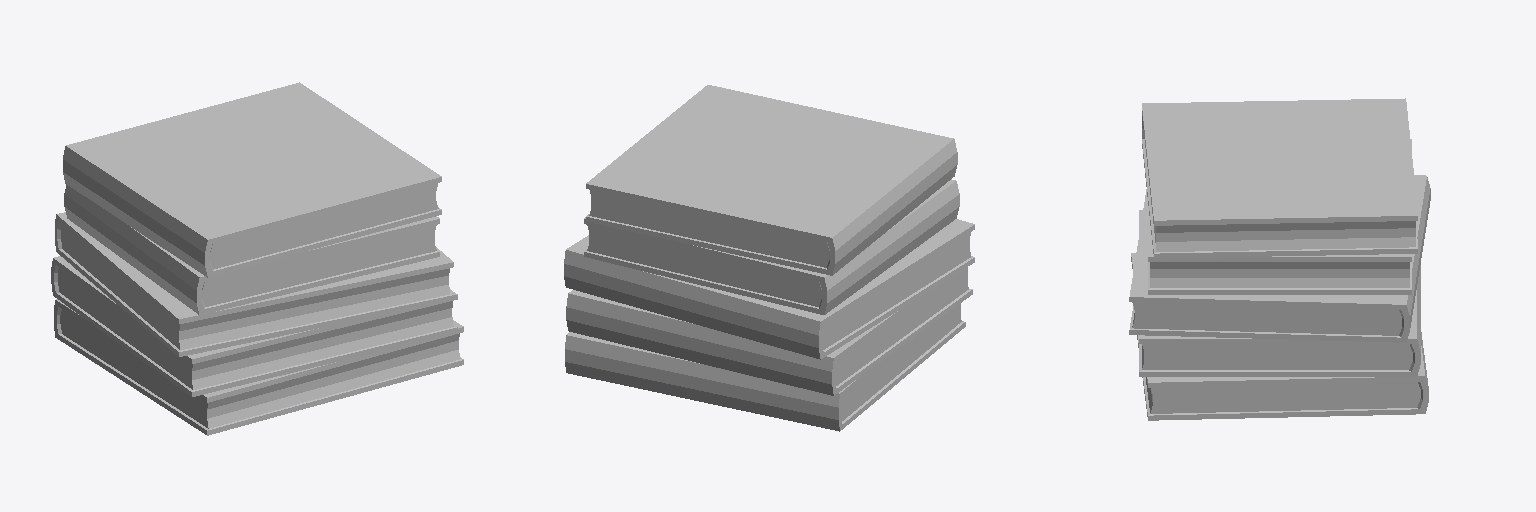
File: pcity_nodes_books_2.obj
3 views of the same model, side by side, from view 1: azimuth 30°, elevation 25°; view 2: azimuth 150°, elevation 25°; view 3: azimuth 270°, elevation 25° (orthographic).
Visible parts, largest first — view 1: Books_2; view 2: Books_2; view 3: Books_2.
Part boxes in pixels (bbox=[...]): Books_2: bbox=[51, 82, 463, 435]; Books_2: bbox=[564, 85, 974, 431]; Books_2: bbox=[1129, 98, 1430, 420].
Bounding box in the file's own units: 0.7844 × 0.5022 × 0.7189.